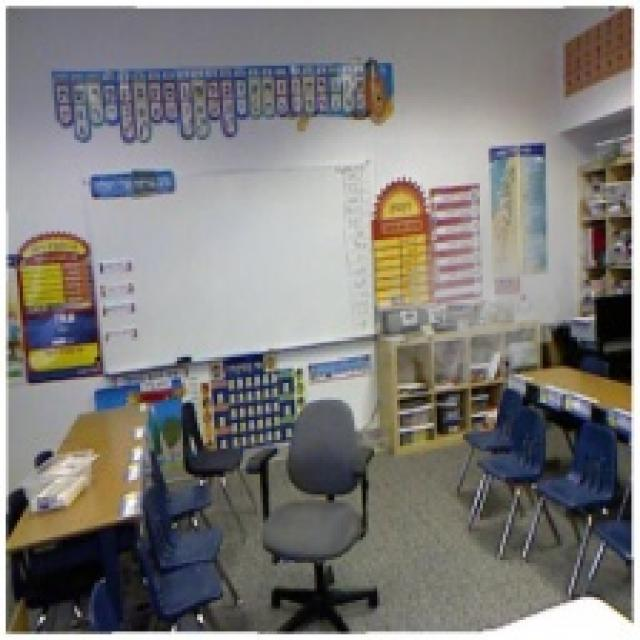smoke: (374, 143, 606, 400)
